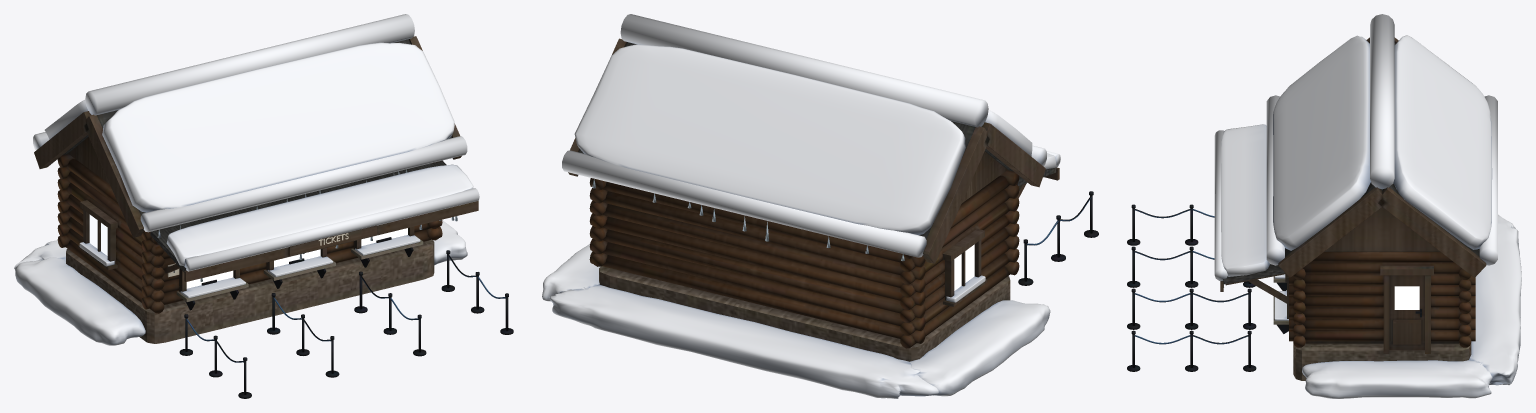
File: ticket_office.glb
3 views of the same model, side by side, from view 1: azimuth 30°, elevation 25°; view 2: azimuth 150°, elevation 25°; view 3: azimuth 270°, elevation 25° (orthographic). The views are drawn at different scales.
Parts seen in each view (by area): view 1: ticket_office_snow, ticket_office, ticket_office_lit; view 2: ticket_office_snow, ticket_office, ticket_office_lit; view 3: ticket_office_snow, ticket_office, ticket_office_lit.
Boxes of the visible parts, bbox=[...] form: ticket_office_snow: bbox=[14, 14, 479, 345]; ticket_office: bbox=[34, 36, 513, 398]; ticket_office_lit: bbox=[89, 214, 407, 288]; ticket_office_snow: bbox=[542, 14, 1060, 398]; ticket_office: bbox=[568, 38, 1098, 361]; ticket_office_lit: bbox=[954, 244, 974, 290]; ticket_office_snow: bbox=[1214, 14, 1521, 398]; ticket_office: bbox=[1127, 37, 1486, 380]; ticket_office_lit: bbox=[1394, 286, 1419, 309].
Size of the model in its own units: 10.35 by 6.05 by 9.53.
Materials: 6 (1 with a texture image).
